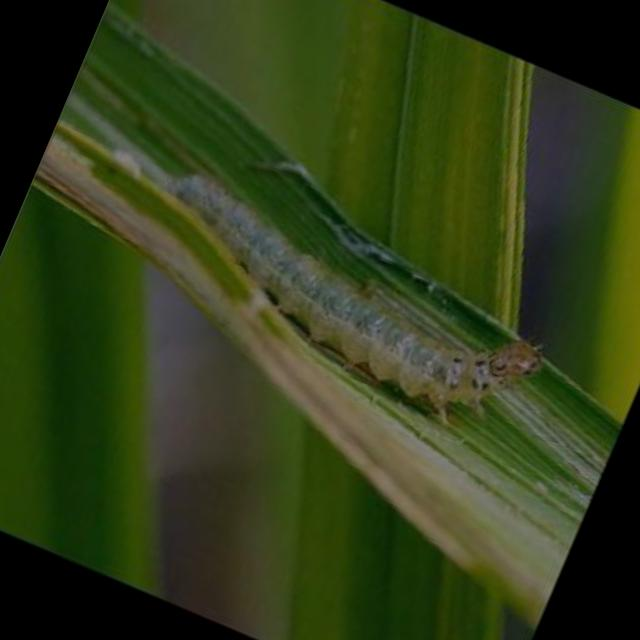leaf-folder: (100, 132, 592, 458)
